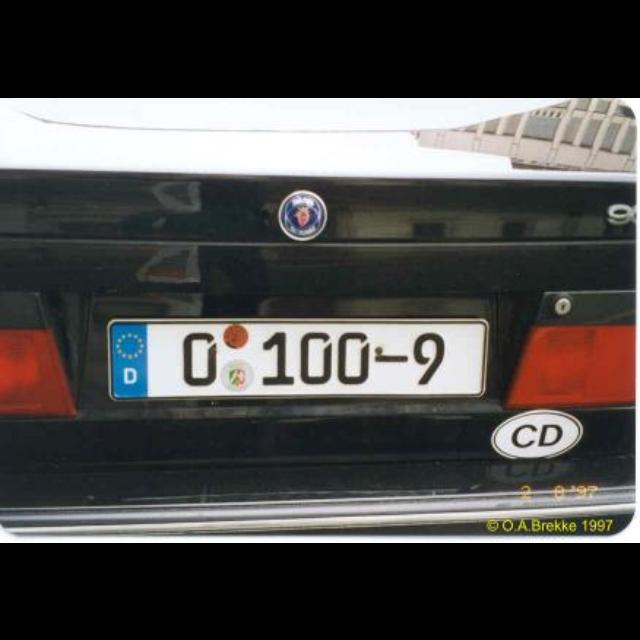d_license_plate: (106, 318, 488, 399)
